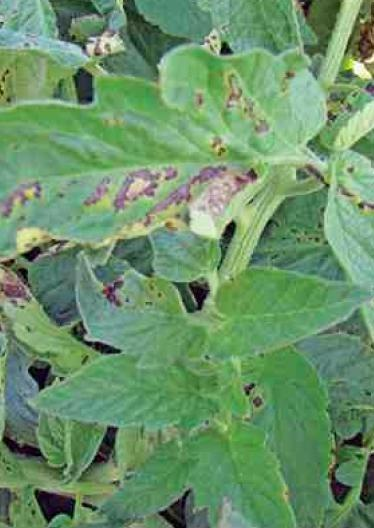Tomato Early blight leaf: (0, 40, 348, 273)
Tomato leaf: (200, 270, 374, 360), (32, 364, 196, 426), (103, 440, 206, 525)
